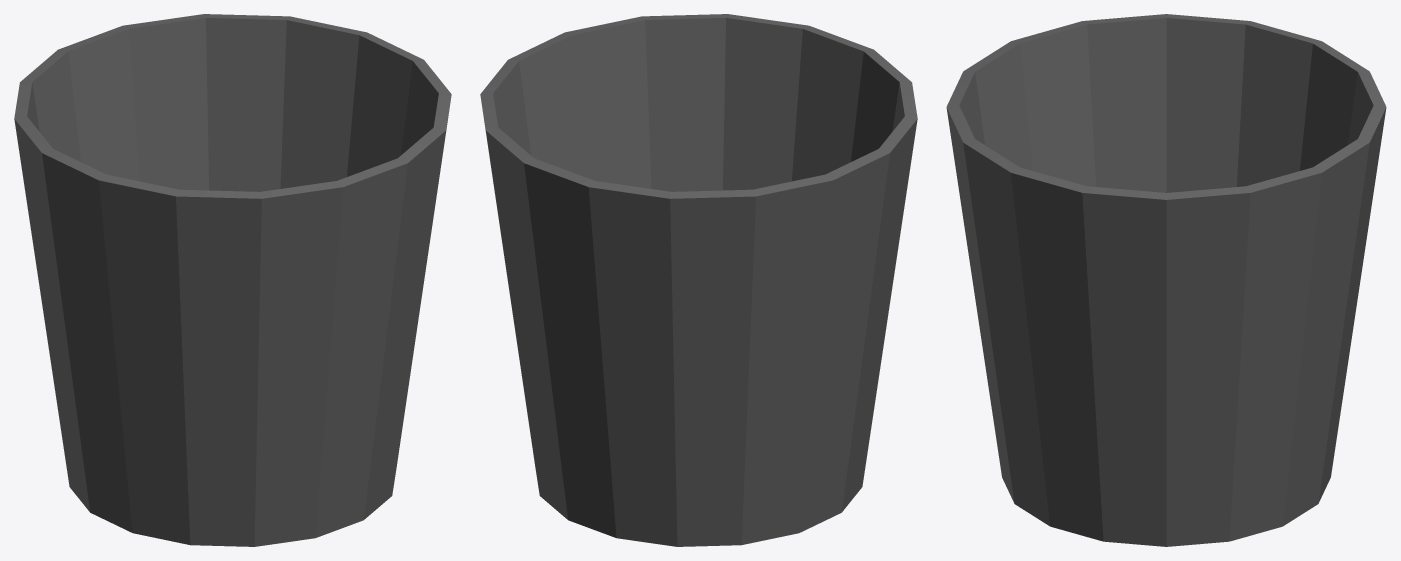
Rendered from Basurero.fbx.
3 views of the same model, side by side, from view 1: azimuth 30°, elevation 25°; view 2: azimuth 150°, elevation 25°; view 3: azimuth 270°, elevation 25° (orthographic).
Visible parts, largest first — view 1: Basurero; view 2: Basurero; view 3: Basurero.
Boxes of the visible parts, <box> form: Basurero: <box>14,14,451,546</box>; Basurero: <box>480,14,917,546</box>; Basurero: <box>946,14,1386,546</box>.
Size of the model in its own units: 29.63 by 27.64 by 29.63.
